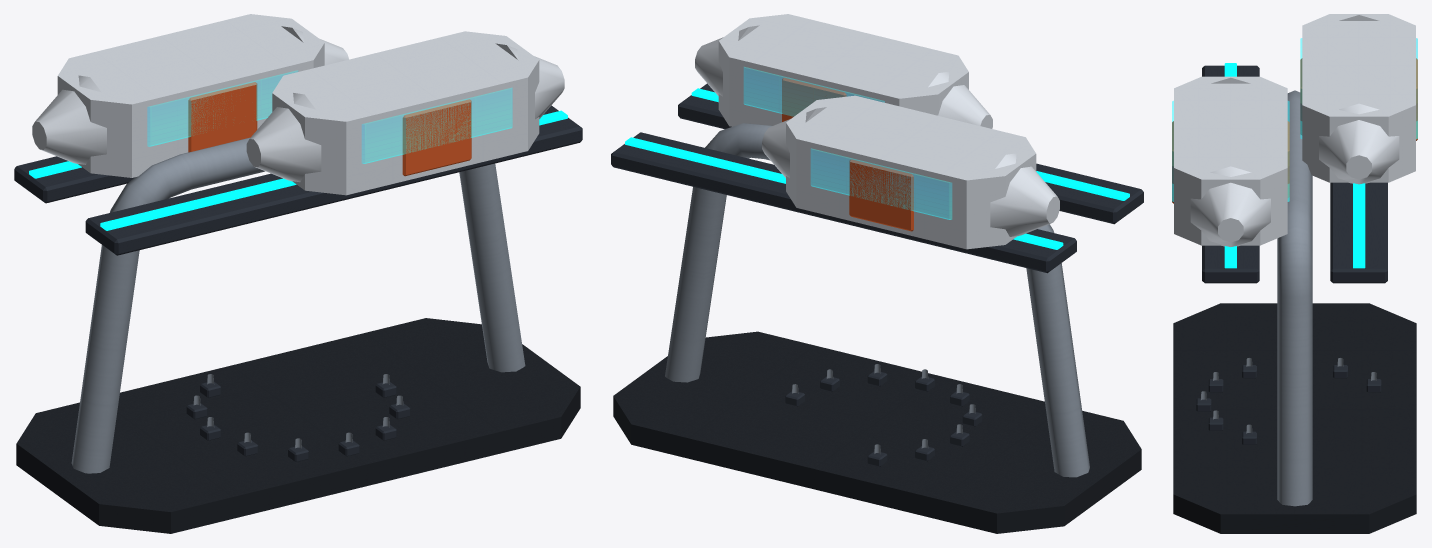
Rendered from prop_01_r1_03.glb.
3 views of the same model, side by side, from view 1: azimuth 30°, elevation 25°; view 2: azimuth 150°, elevation 25°; view 3: azimuth 270°, elevation 25° (orthographic). The views are drawn at different scales.
Visible parts, largest first — view 1: Prop01_C03_gunmetal, Prop01_C03_aero_white, Prop01_C03_steel_machined, Prop01_C03_carbon_slate, Prop01_C03_glass_cyan, Prop01_C03_accent_orange, Prop01_C03_led_cyan; view 2: Prop01_C03_gunmetal, Prop01_C03_aero_white, Prop01_C03_steel_machined, Prop01_C03_carbon_slate, Prop01_C03_glass_cyan, Prop01_C03_accent_orange, Prop01_C03_led_cyan; view 3: Prop01_C03_gunmetal, Prop01_C03_aero_white, Prop01_C03_steel_machined, Prop01_C03_carbon_slate, Prop01_C03_led_cyan, Prop01_C03_glass_cyan, Prop01_C03_accent_orange.
Part boxes in pixels (x1=…): Prop01_C03_gunmetal: x1=16, y1=318, x2=580, y2=533; Prop01_C03_aero_white: x1=32, y1=14, x2=564, y2=195; Prop01_C03_steel_machined: x1=71, y1=137, x2=525, y2=473; Prop01_C03_carbon_slate: x1=14, y1=105, x2=582, y2=461; Prop01_C03_glass_cyan: x1=147, y1=70, x2=512, y2=163; Prop01_C03_accent_orange: x1=188, y1=82, x2=471, y2=176; Prop01_C03_led_cyan: x1=29, y1=110, x2=567, y2=230; Prop01_C03_gunmetal: x1=613, y1=331, x2=1141, y2=533; Prop01_C03_aero_white: x1=695, y1=14, x2=1059, y2=249; Prop01_C03_steel_machined: x1=665, y1=123, x2=1089, y2=477; Prop01_C03_carbon_slate: x1=611, y1=83, x2=1143, y2=466; Prop01_C03_glass_cyan: x1=744, y1=67, x2=951, y2=219; Prop01_C03_accent_orange: x1=782, y1=78, x2=913, y2=231; Prop01_C03_led_cyan: x1=625, y1=88, x2=1129, y2=249; Prop01_C03_gunmetal: x1=1173, y1=303, x2=1416, y2=533; Prop01_C03_aero_white: x1=1174, y1=14, x2=1415, y2=246; Prop01_C03_steel_machined: x1=1201, y1=90, x2=1376, y2=506; Prop01_C03_carbon_slate: x1=1196, y1=65, x2=1387, y2=444; Prop01_C03_led_cyan: x1=1224, y1=63, x2=1365, y2=268; Prop01_C03_glass_cyan: x1=1172, y1=38, x2=1417, y2=201; Prop01_C03_accent_orange: x1=1172, y1=58, x2=1417, y2=203.
Size of the model in its own units: 7.4 by 5.52 by 3.64.
Materials: 7 (7 with a texture image).
